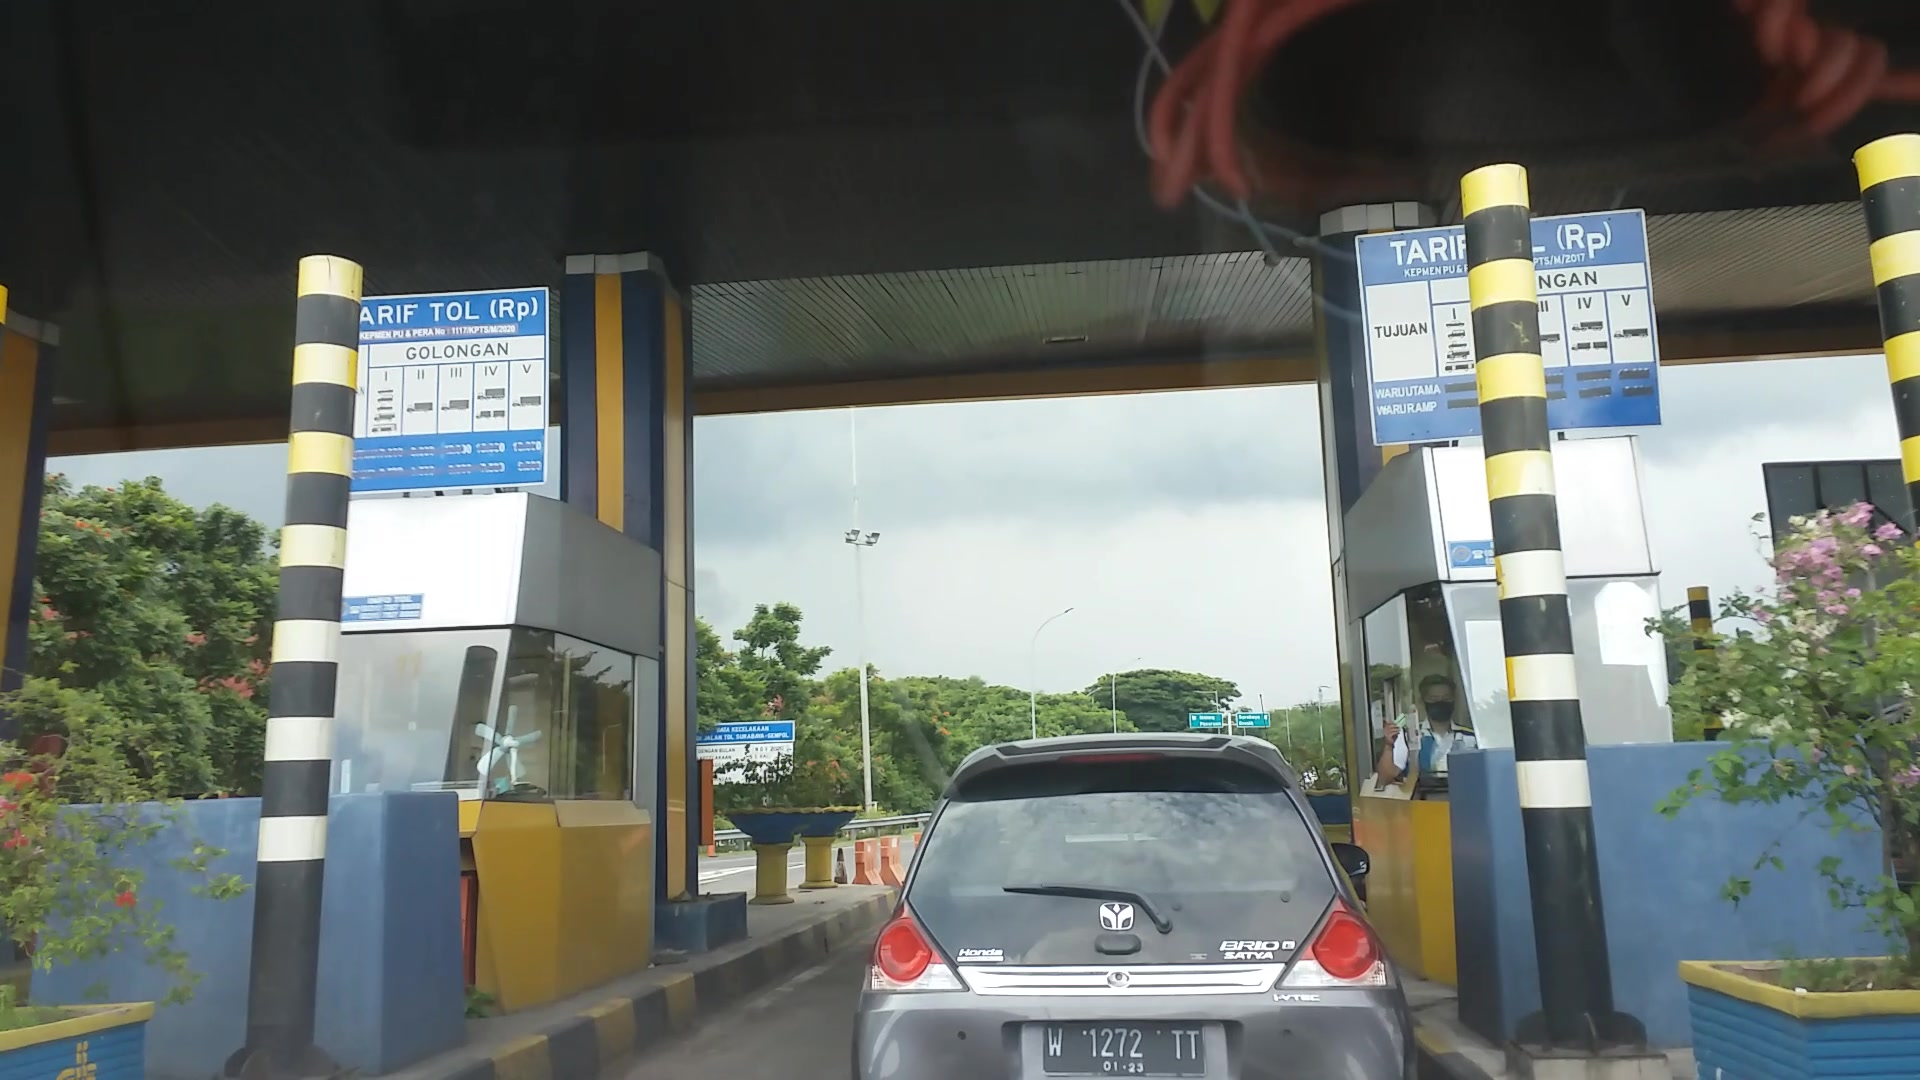plate_positive: (1043, 1021, 1205, 1075)
